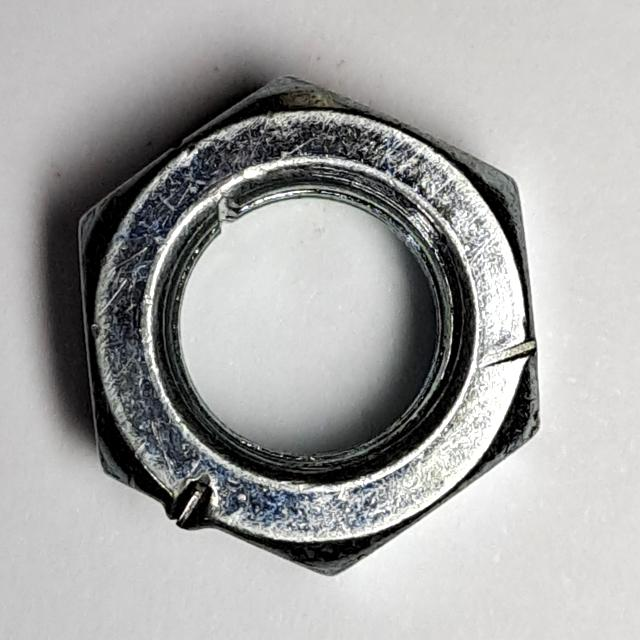Scratches: (70, 66, 550, 586)
